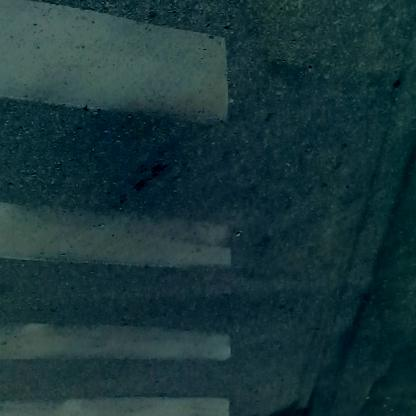crosswalk: (2, 2, 259, 409)
